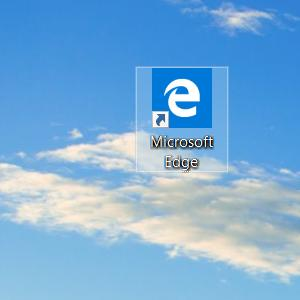edge: (152, 68, 212, 128)
